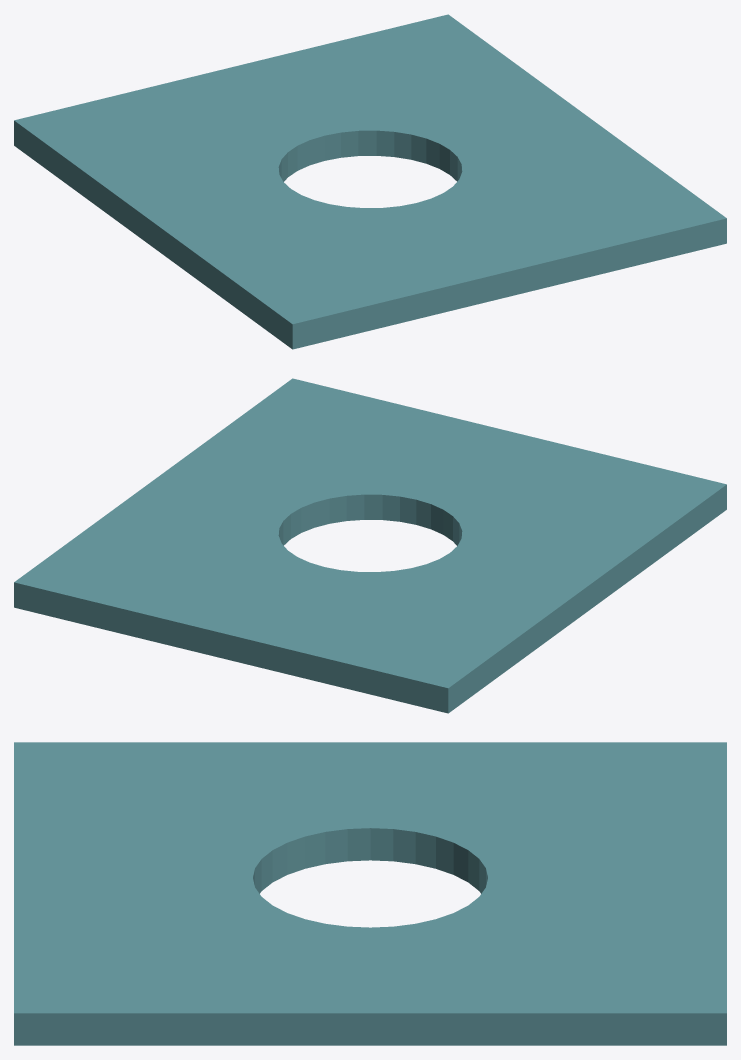
The model's file is Right-wall-top-shim-97.glb.
3 renders of one model, top to bottom at view 1: azimuth 30°, elevation 25°; view 2: azimuth 150°, elevation 25°; view 3: azimuth 270°, elevation 25°, orthographic. The views are drawn at different scales.
Visible parts, largest first — view 1: Right-wall-top-shim-97; view 2: Right-wall-top-shim-97; view 3: Right-wall-top-shim-97.
Part boxes in pixels (x1=…): Right-wall-top-shim-97: x1=14, y1=14, x2=726, y2=349; Right-wall-top-shim-97: x1=14, y1=378, x2=726, y2=713; Right-wall-top-shim-97: x1=14, y1=742, x2=726, y2=1045.
Bounding box in the file's own units: 0.018 × 0.001 × 0.02.
